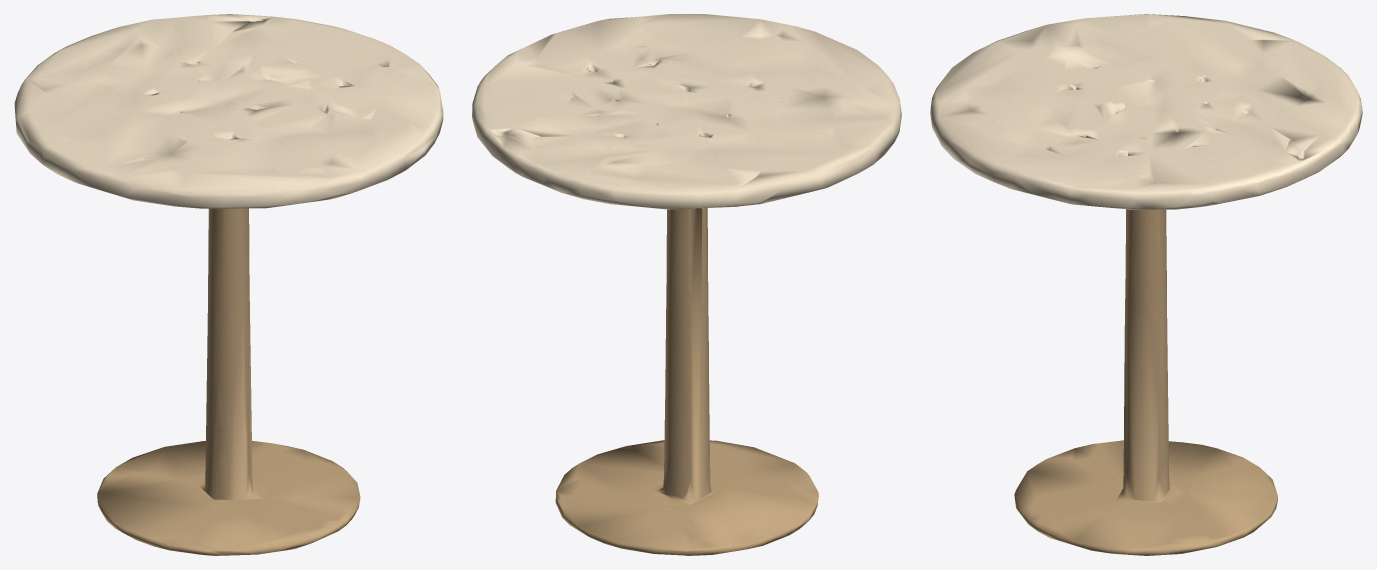
Rendered from cafetable_lod1.glb.
The picture shows the model from 3 angles, left to right: view 1: azimuth 30°, elevation 25°; view 2: azimuth 150°, elevation 25°; view 3: azimuth 270°, elevation 25°; orthographic projection.
Parts seen in each view (by area): view 1: tripo_node_3c3d4659-8a66-43ce-8b4d-4d35e86db970; view 2: tripo_node_3c3d4659-8a66-43ce-8b4d-4d35e86db970; view 3: tripo_node_3c3d4659-8a66-43ce-8b4d-4d35e86db970.
Boxes of the visible parts, x1=… form: tripo_node_3c3d4659-8a66-43ce-8b4d-4d35e86db970: x1=14, y1=14, x2=443, y2=555; tripo_node_3c3d4659-8a66-43ce-8b4d-4d35e86db970: x1=472, y1=14, x2=901, y2=555; tripo_node_3c3d4659-8a66-43ce-8b4d-4d35e86db970: x1=930, y1=14, x2=1362, y2=555.
Bounding box in the file's own units: 0.6354 × 0.6497 × 0.6352.
Materials: 1 (1 with a texture image).
